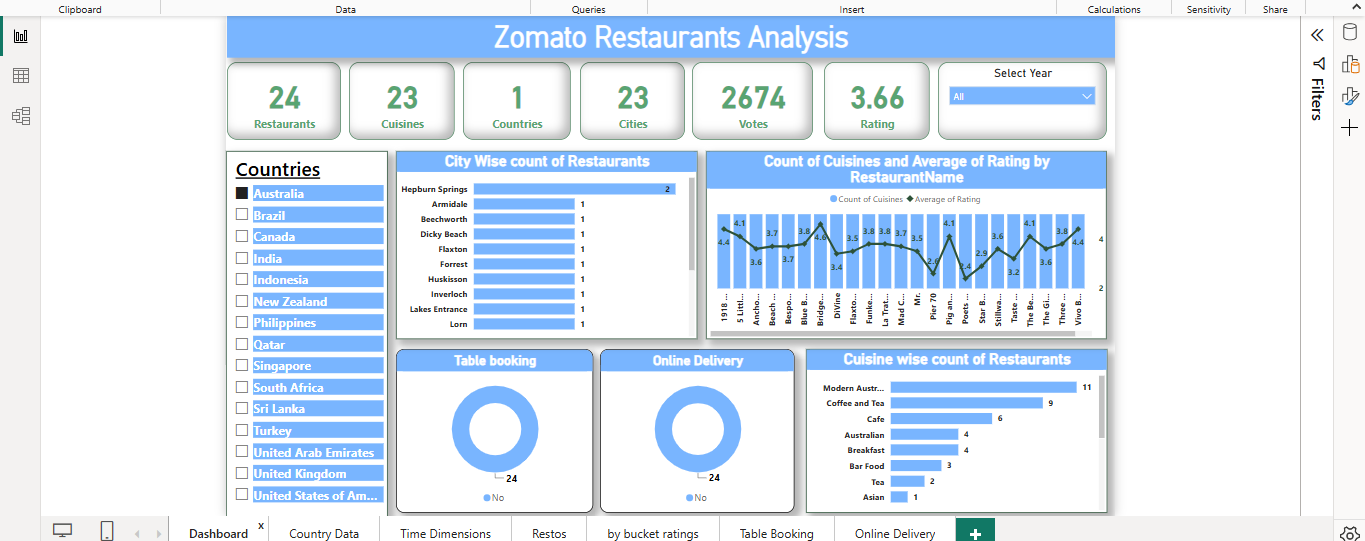

Layout of this report page (visuals, bound fields, positions):
{"tool":"powerbi","page":{"name":"Dashboard","canvas":[1280,720],"ordinal":0},"visuals":[{"type":"slicer","fields":{"Values":["Sheet2.country name"]},"box":[0,194.2,232.6,526.7],"z":0},{"type":"card","fields":{"Values":["CountNonNull(Sheet2.countryID)"]},"box":[340.7,66.3,154.7,111.6],"z":2000},{"type":"card","fields":{"Values":["Min(Sheet1.Cuisines)"]},"box":[176.7,66.3,152.3,111.6],"z":3000},{"type":"card","fields":{"Values":["CountNonNull(Sheet1.RestaurantID)"]},"box":[1.2,66.3,164,111.6],"z":4000},{"type":"card","fields":{"Values":["Min(Sheet1.City)"]},"box":[510.5,66.3,151.2,111.6],"z":5000},{"type":"textbox","box":[1.5,0,1279.2,60.3],"z":6000},{"type":"donutChart","title":"Table booking ","fields":{"Category":["cuisines copy.Has_Table_booking"],"Y":["CountNonNull(cuisines copy.Has_Table_booking)"]},"box":[245.3,480.2,283.7,236],"z":7000},{"type":"donutChart","title":"Online Delivery","fields":{"Category":["cuisines copy.Has_Online_delivery"],"Y":["CountNonNull(cuisines copy.Has_Online_delivery)"]},"box":[538.4,480.2,280.2,236],"z":8000},{"type":"clusteredBarChart","title":"Cuisine wise count of Restaurants","fields":{"Category":["Sheet1.Column"],"Y":["CountNonNull(Sheet1.Cuisines)"]},"box":[834.9,480.2,433.7,236],"z":9000},{"type":"clusteredBarChart","title":"City Wise count of Restaurants","fields":{"Category":["cuisines copy.City"],"Y":["CountNonNull(cuisines copy.RestaurantID)"]},"box":[245.3,194.2,433.7,270.9],"z":10000},{"type":"lineStackedColumnComboChart","fields":{"Category":["cuisines copy.RestaurantName"],"Y":["CountNonNull(cuisines copy.Cuisines)"],"Y2":["Sum(cuisines copy.Rating)"]},"box":[691.9,194.2,576.7,270.9],"z":11000},{"type":"slicer","title":"Select Year","fields":{"Values":["cuisines copy.new datekey.Variation.Date Hierarchy.Year","cuisines copy.new datekey.Variation.Date Hierarchy.Quarter","cuisines copy.new datekey.Variation.Date Hierarchy.Month","cuisines copy.new datekey.Variation.Date Hierarchy.Day"]},"box":[1025.6,66.3,243,111.6],"z":13000},{"type":"card","fields":{"Values":["Sum(cuisines copy.Votes)"]},"box":[670.9,66.3,174.4,111.6],"z":14000},{"type":"card","fields":{"Values":["Sum(cuisines copy.Rating)"]},"box":[860.5,66.3,152.3,111.6],"z":15000}]}

Visuals, with their boxes on the page's 1280x720 design canvas (x1, y1, x2, y2). These are canvas units, not pixel positions in the 1365x541 screenshot, which may show the page scaled, cropped or inside an application window:
slicer - Sheet2.country name: 0 194 233 721
card - CountNonNull(Sheet2.countryID): 341 66 495 178
card - Min(Sheet1.Cuisines): 177 66 329 178
card - CountNonNull(Sheet1.RestaurantID): 1 66 165 178
card - Min(Sheet1.City): 510 66 662 178
textbox: 2 0 1281 60
"Table booking " donutChart: 245 480 529 716
"Online Delivery" donutChart: 538 480 819 716
"Cuisine wise count of Restaurants" clusteredBarChart: 835 480 1269 716
"City Wise count of Restaurants" clusteredBarChart: 245 194 679 465
lineStackedColumnComboChart - cuisines copy.RestaurantName x CountNonNull(cuisines copy.Cuisines): 692 194 1269 465
"Select Year" slicer: 1026 66 1269 178
card - Sum(cuisines copy.Votes): 671 66 845 178
card - Sum(cuisines copy.Rating): 860 66 1013 178
